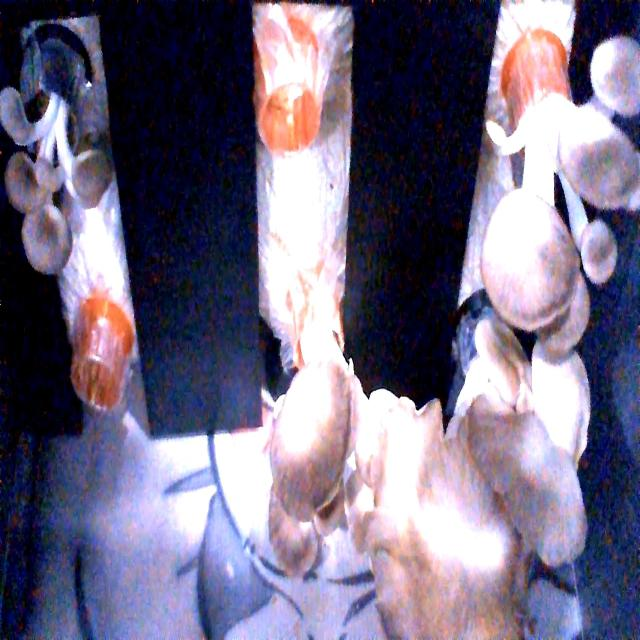big: (356, 344, 581, 640), (482, 28, 640, 391), (260, 314, 378, 555)
nfound: (259, 56, 323, 170), (68, 342, 124, 427)
small: (0, 79, 119, 268)
